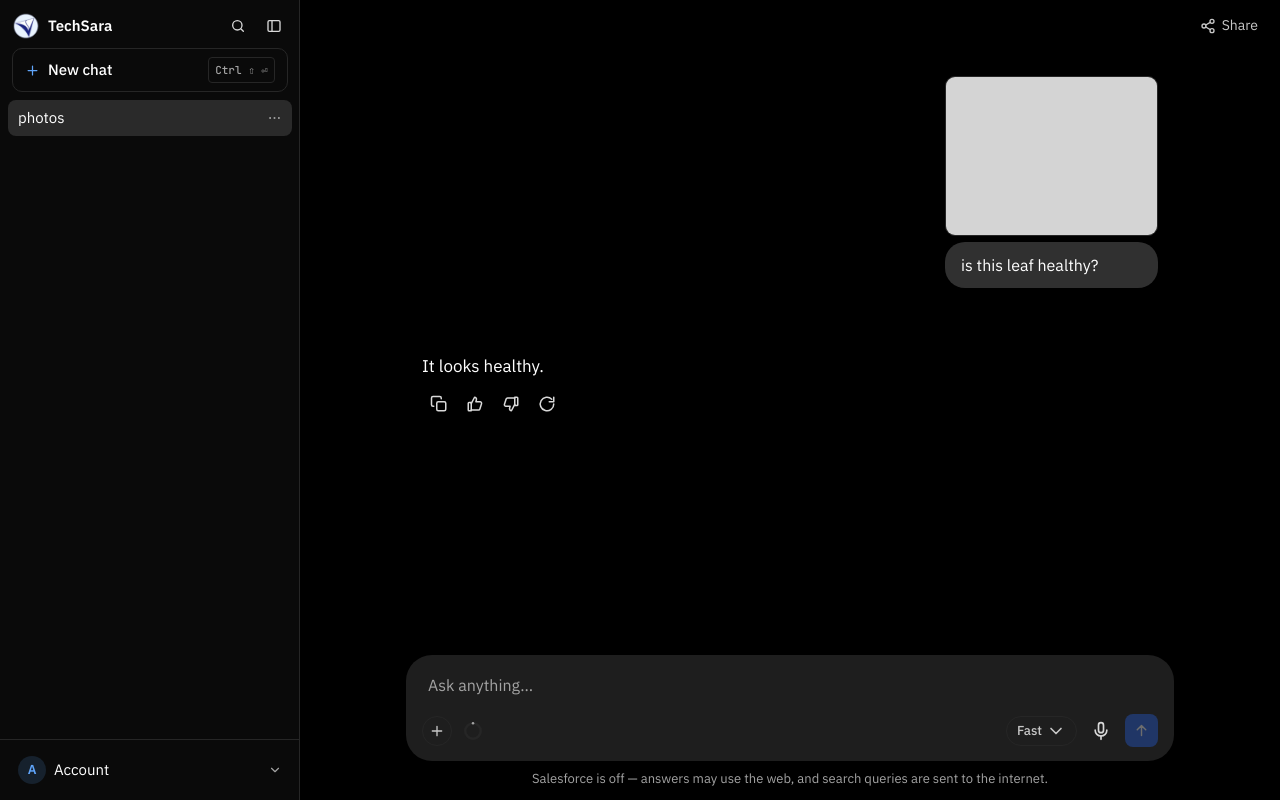
Test case: a device that never held the photo › a 422 image_ref_missing shows the existing re-attach notice
Expected: the text "It looks healthy." is shown, top-left (422, 355), bottom-right (544, 377)
Click the button named "Try again" at coordinates (547, 404), box top-left (530, 387), bottom-right (564, 421)
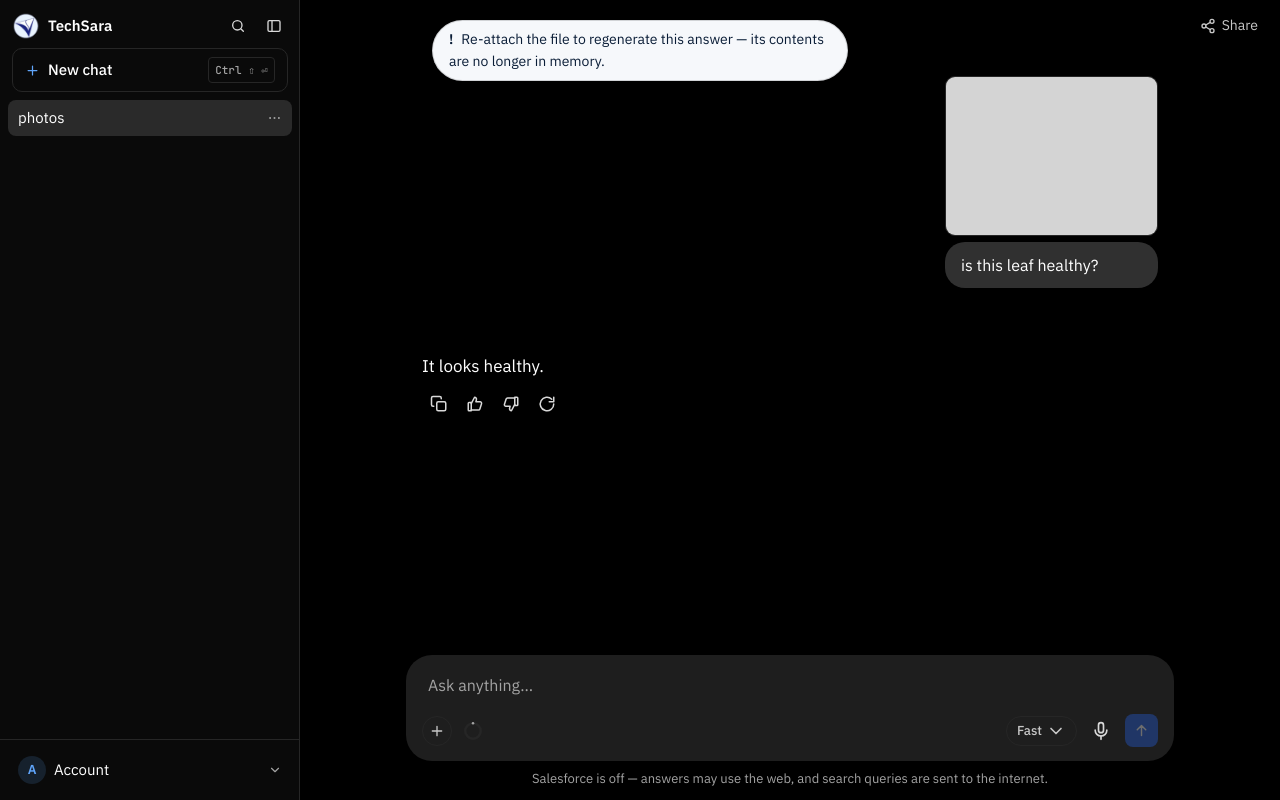
Expected: the text "It looks healthy." is shown, top-left (422, 355), bottom-right (544, 377)
Expected: the text "Re-attach the file to regenerate this answer — its contents are no longer in memory." is shown, top-left (449, 30), bottom-right (824, 70)
